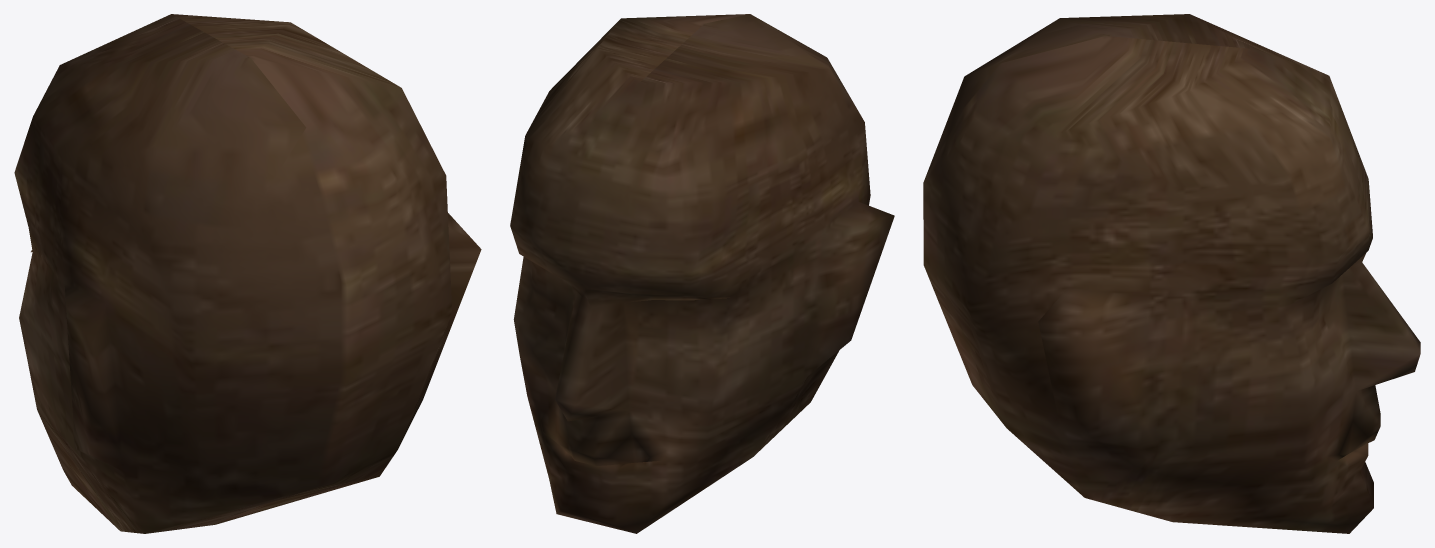
Rendered from ITHC_MANNEQUIN.glb.
3 renders of one model, left to right at view 1: azimuth 30°, elevation 25°; view 2: azimuth 150°, elevation 25°; view 3: azimuth 270°, elevation 25°, orthographic. The views are drawn at different scales.
Parts seen in each view (by area): view 1: Mesh; view 2: Mesh; view 3: Mesh.
Part boxes in pixels (x1=…): Mesh: x1=14, y1=14, x2=481, y2=533; Mesh: x1=510, y1=14, x2=894, y2=533; Mesh: x1=923, y1=14, x2=1420, y2=533.
Bounding box in the file's own units: 0.1971 × 0.2478 × 0.2346.
Materials: 1 (1 with a texture image).
